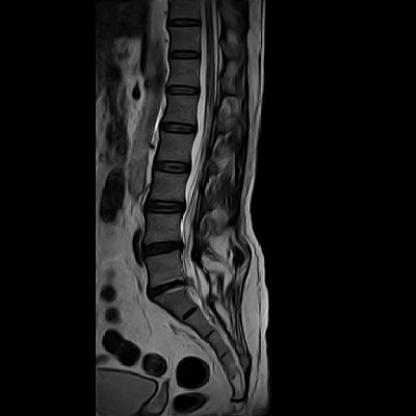Disc Bulgerotation: (141, 237, 184, 259), (145, 281, 187, 298)
